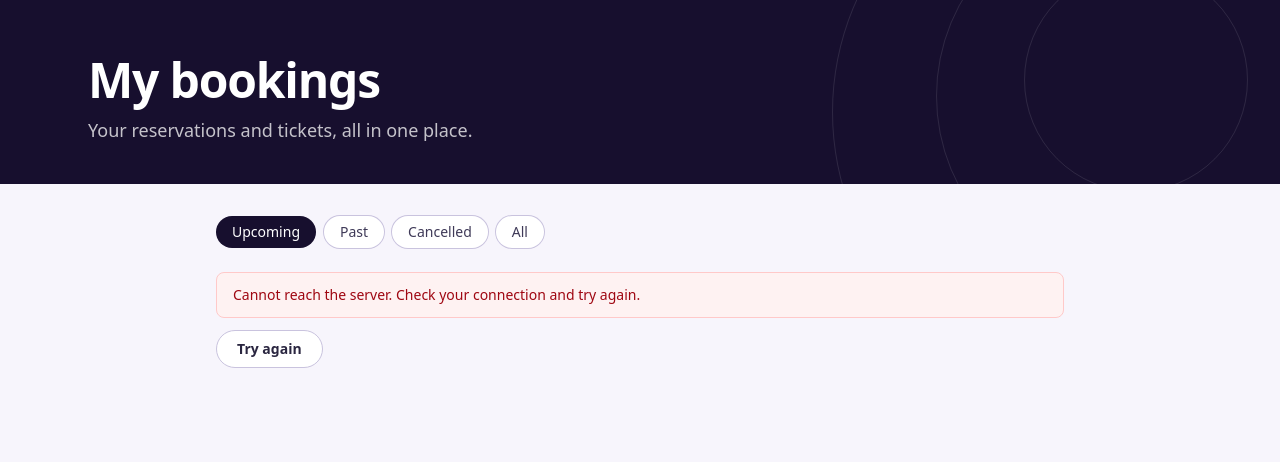
it: MyBookingsPage › shows a friendly error and lets the person try again
This screenshot has width=1280, height=462.
Expected: the message shows "Cannot reach the server", [233,285,640,304]
What coordinates should you click on to do the following:
click the button "Try again"
I would click on:
 (269, 349)
Its box is [216,330,323,368].
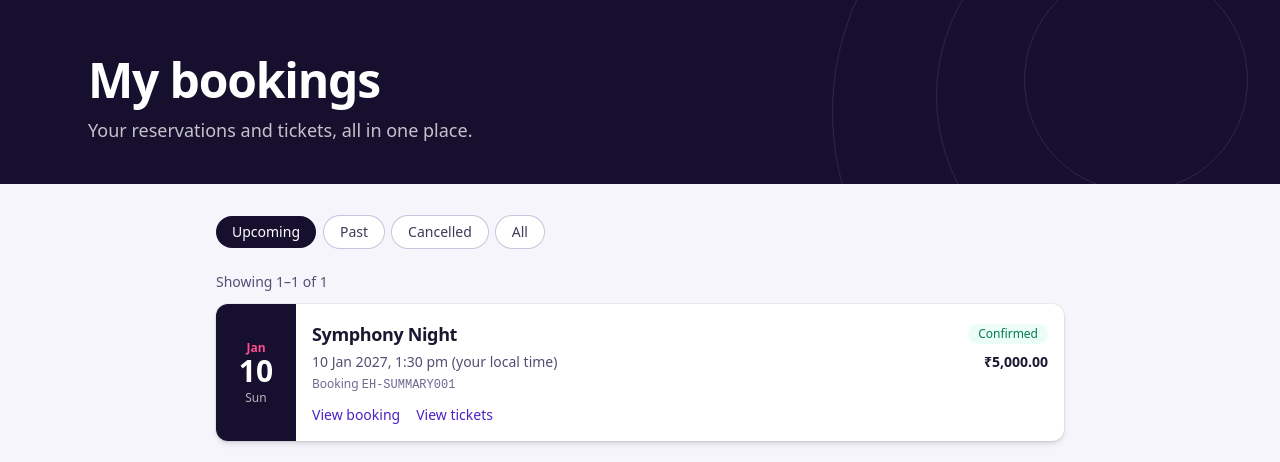
Expected: the link "Symphony Night" is shown, [312,322,457,346]
